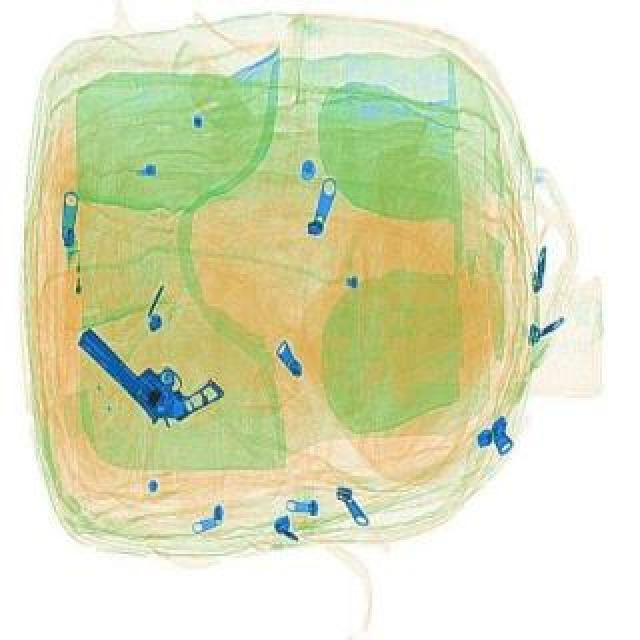gun: (74, 292, 226, 436)
